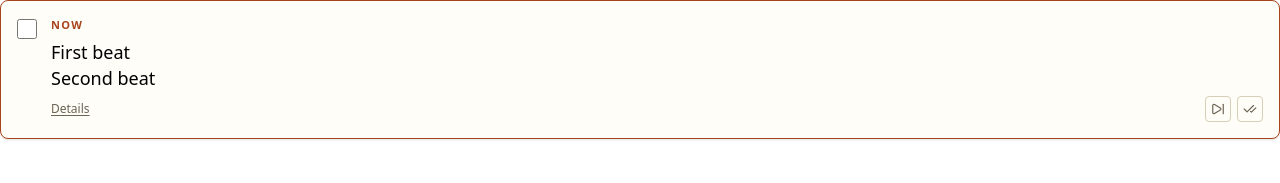
StepRow keyword/detail rendering (D3) › toggles the detail open and closed (aria-expanded tracks state)
Click the button "Details" at (70, 108), box [51, 100, 90, 116]
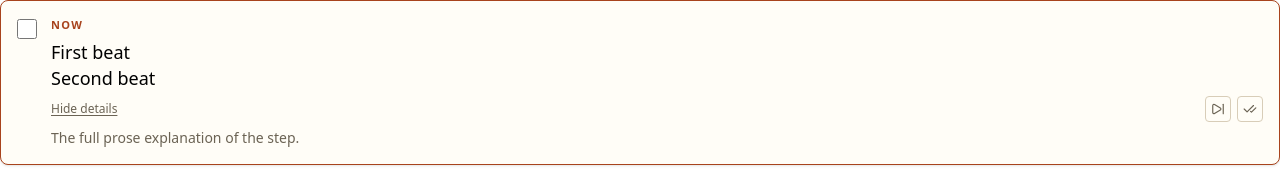
Expected: the text "The full prose explanation of the step." is shown, [51, 128, 299, 146]
Expected: the button "Hide details" is expanded
Click the button "Hide details" at (84, 108), box [51, 100, 117, 116]
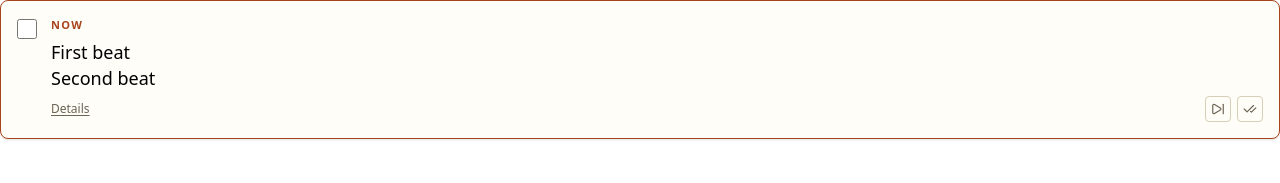
Expected: the text "full prose explanation" is gone
